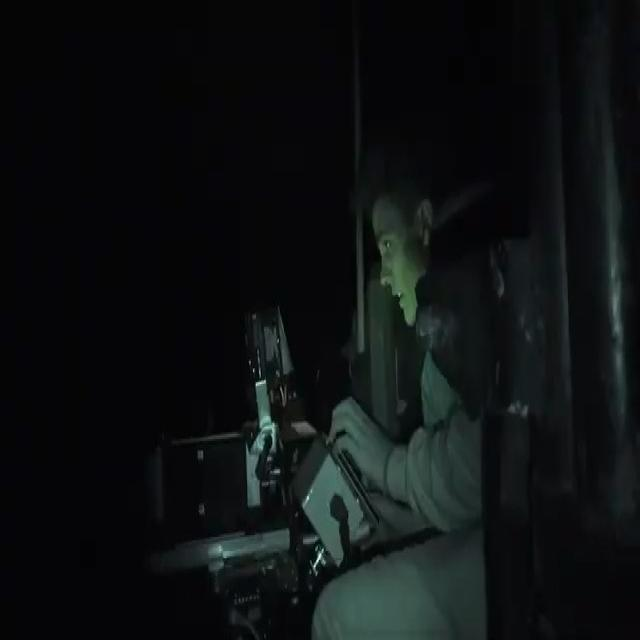device: (211, 211, 326, 596)
human: (325, 139, 640, 640)
